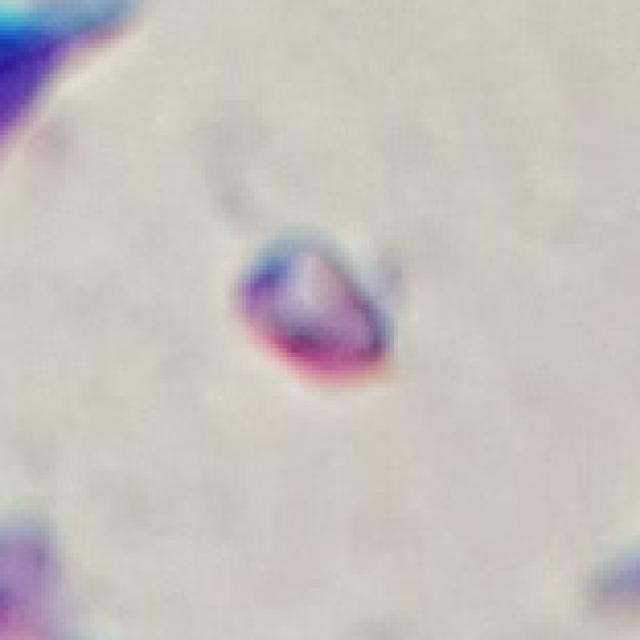non-sperm: (234, 231, 394, 383)
